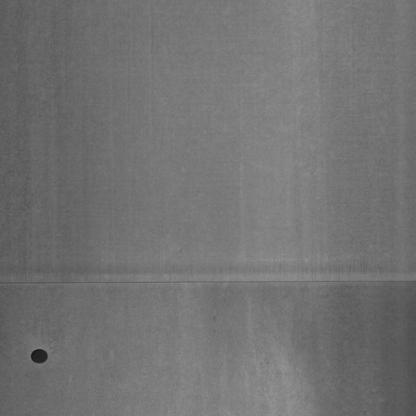punching_hole: (28, 346, 52, 370)
welding_line: (2, 270, 415, 296)
